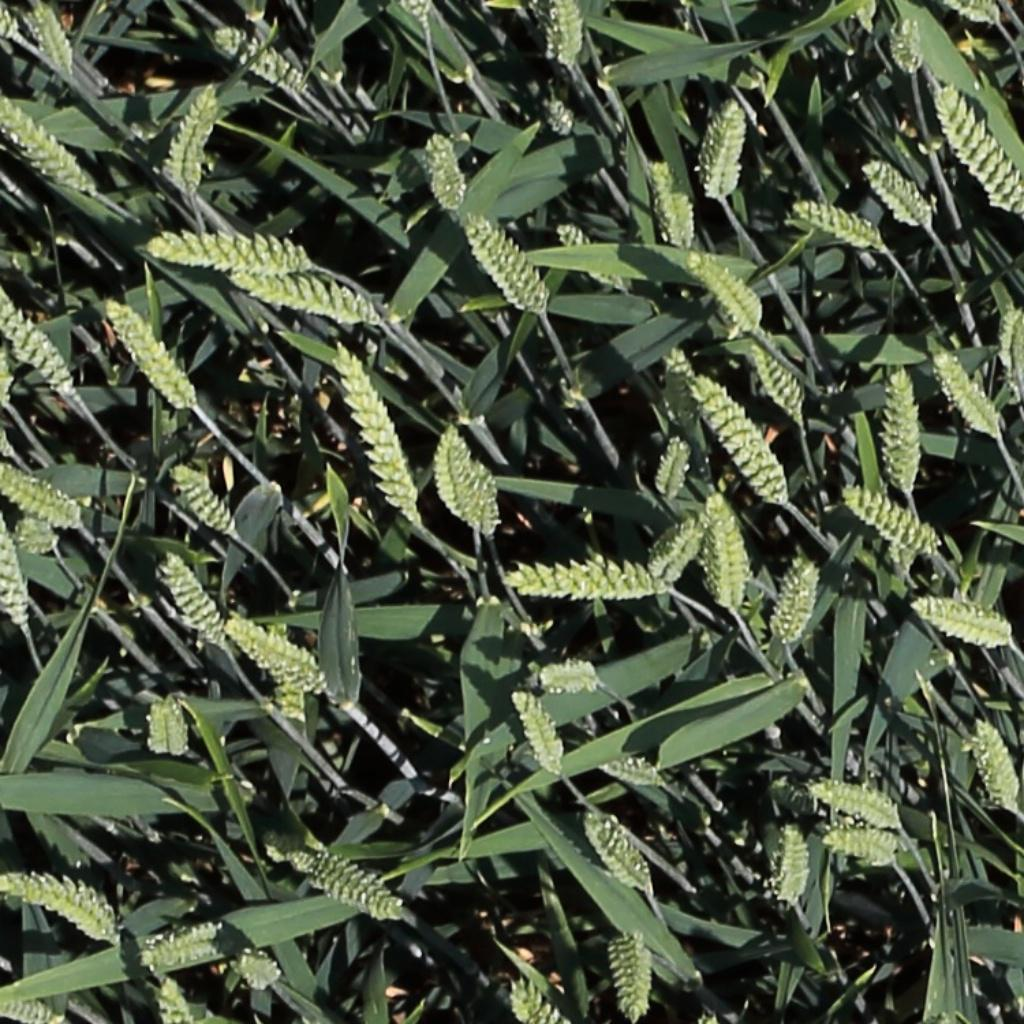0-0: (333, 334, 421, 527), (698, 365, 793, 507), (935, 79, 1022, 217), (102, 290, 199, 412), (223, 265, 386, 330), (0, 79, 94, 191), (227, 605, 347, 691), (462, 207, 550, 312), (0, 870, 123, 945), (144, 228, 321, 279), (0, 281, 79, 395), (299, 847, 408, 927), (496, 557, 673, 604), (929, 339, 1006, 441), (159, 550, 232, 652), (907, 592, 1019, 656), (845, 486, 943, 558), (659, 340, 711, 468), (214, 24, 307, 94), (693, 96, 752, 205), (745, 333, 812, 428), (688, 251, 765, 331), (584, 812, 655, 898), (804, 778, 909, 834), (169, 79, 219, 196), (510, 685, 569, 782), (877, 363, 920, 494), (170, 461, 241, 540), (968, 714, 1021, 817), (793, 197, 887, 254), (707, 490, 750, 613), (865, 155, 936, 228), (554, 221, 630, 288), (649, 154, 699, 254), (606, 928, 656, 1024), (435, 427, 481, 531), (0, 481, 31, 629), (651, 517, 709, 589), (775, 552, 815, 655), (25, 0, 77, 79), (815, 824, 911, 866), (772, 821, 812, 908), (427, 126, 466, 212), (519, 659, 604, 698), (147, 922, 222, 965), (148, 694, 193, 759), (656, 430, 693, 507), (590, 751, 669, 787), (541, 0, 582, 64), (258, 829, 318, 872), (510, 976, 563, 1024), (472, 457, 501, 543), (887, 10, 925, 75), (154, 970, 195, 1024), (540, 86, 580, 139), (999, 300, 1024, 383), (274, 682, 314, 731), (0, 992, 61, 1024), (17, 518, 64, 559), (236, 954, 281, 987), (402, 0, 438, 36), (954, 0, 1003, 25), (0, 3, 19, 40)
